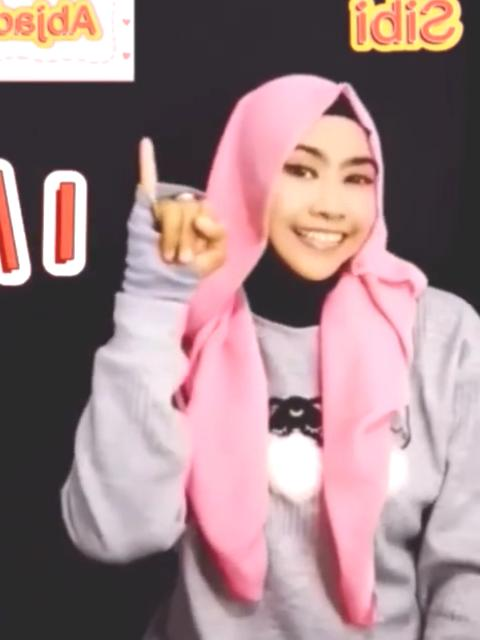I: (127, 135, 233, 289)
